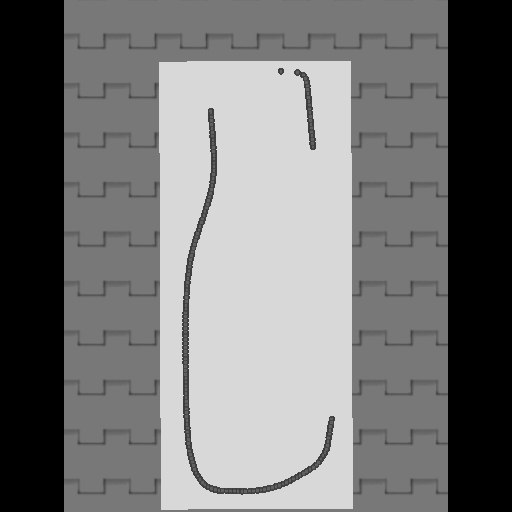Defect: (301, 148, 341, 417)
